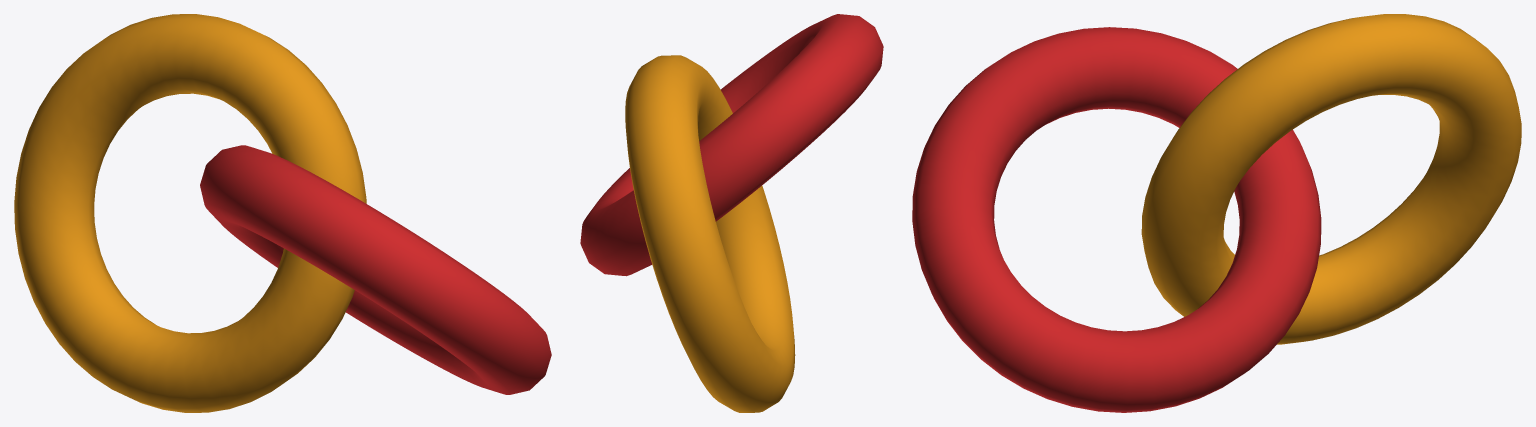
File: insta.glb
3 views of the same model, side by side, from view 1: azimuth 30°, elevation 25°; view 2: azimuth 150°, elevation 25°; view 3: azimuth 270°, elevation 25° (orthographic). The views are drawn at different scales.
Parts seen in each view (by area): view 1: Torus.001, Torus; view 2: Torus.001, Torus; view 3: Torus, Torus.001.
Boxes of the visible parts, box(x1,y1,x2,y2) form: Torus.001: box(14, 14, 366, 412); Torus: box(200, 145, 551, 394); Torus.001: box(625, 55, 795, 412); Torus: box(580, 14, 883, 276); Torus: box(912, 27, 1321, 412); Torus.001: box(1141, 14, 1521, 344).
Size of the model in its own units: 2.35 by 2.38 by 3.7.
